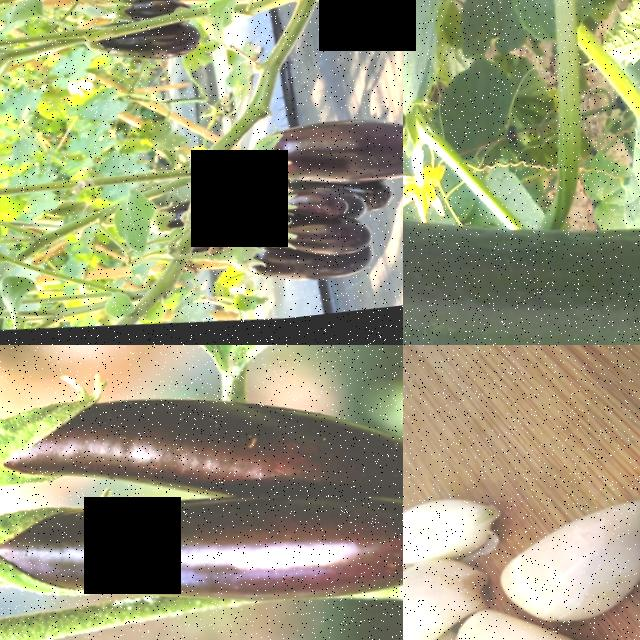cucumber: (403, 161, 640, 345)
eggplant: (0, 466, 403, 640), (0, 368, 371, 538), (237, 115, 403, 205), (76, 25, 195, 75), (244, 218, 356, 270), (246, 188, 338, 231)
garlic: (485, 494, 640, 637), (403, 493, 494, 570), (403, 555, 476, 640), (429, 607, 616, 640)
